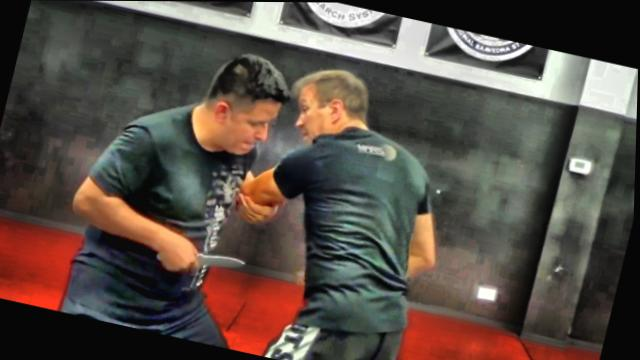knife: (151, 233, 254, 285)
